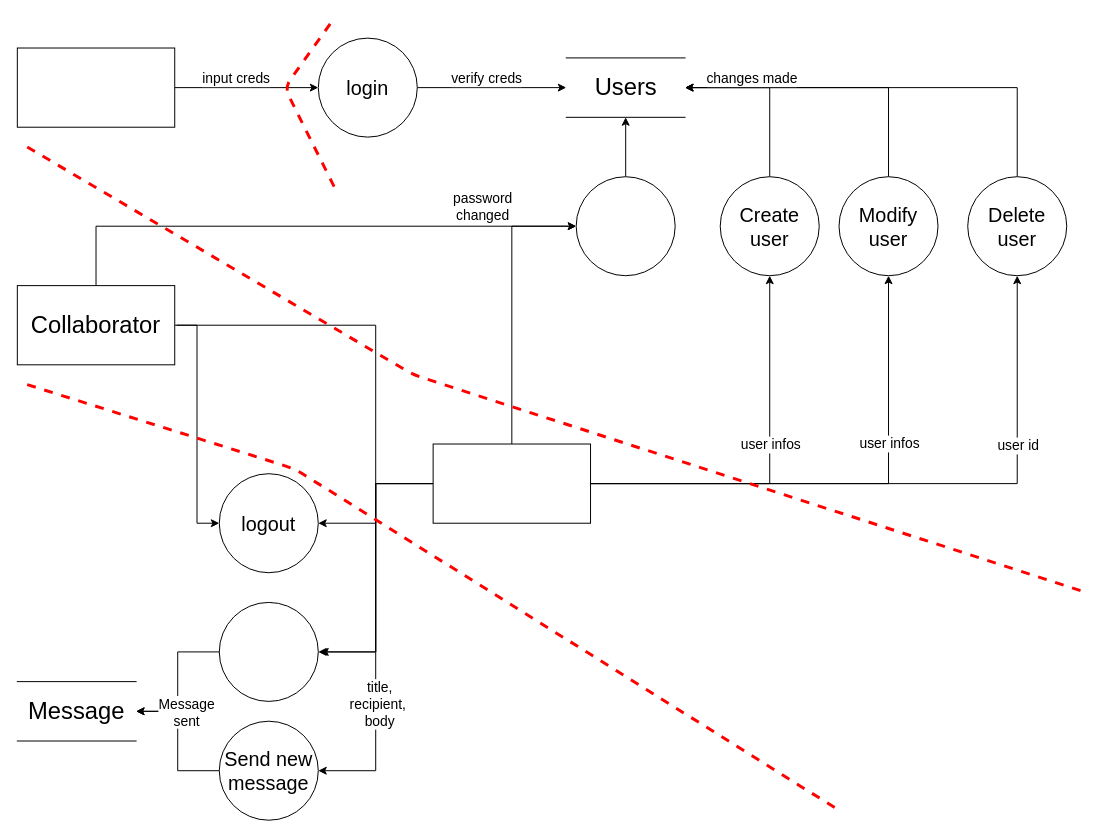
Some shapes in this 1106 by 838 pixel diagram are drawn without their labels. Here are the shapes that lost their labels. From the top down, the centre of each, then its label:
At (95,87): "Anonymous user".
At (625,226): "Change password".
At (511,483): "Admin".
At (268,651): "Answer message".
